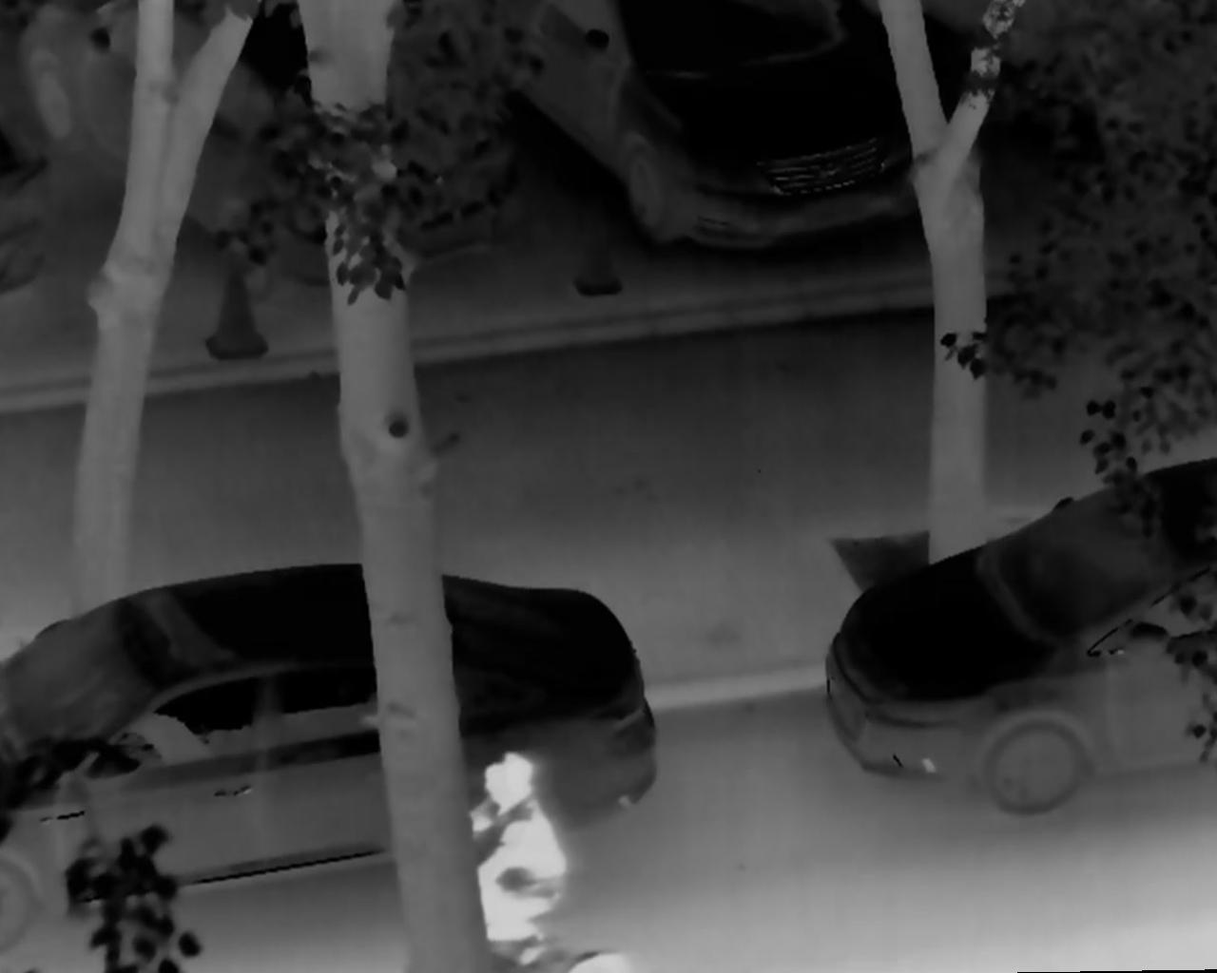person: (450, 742, 570, 971)
